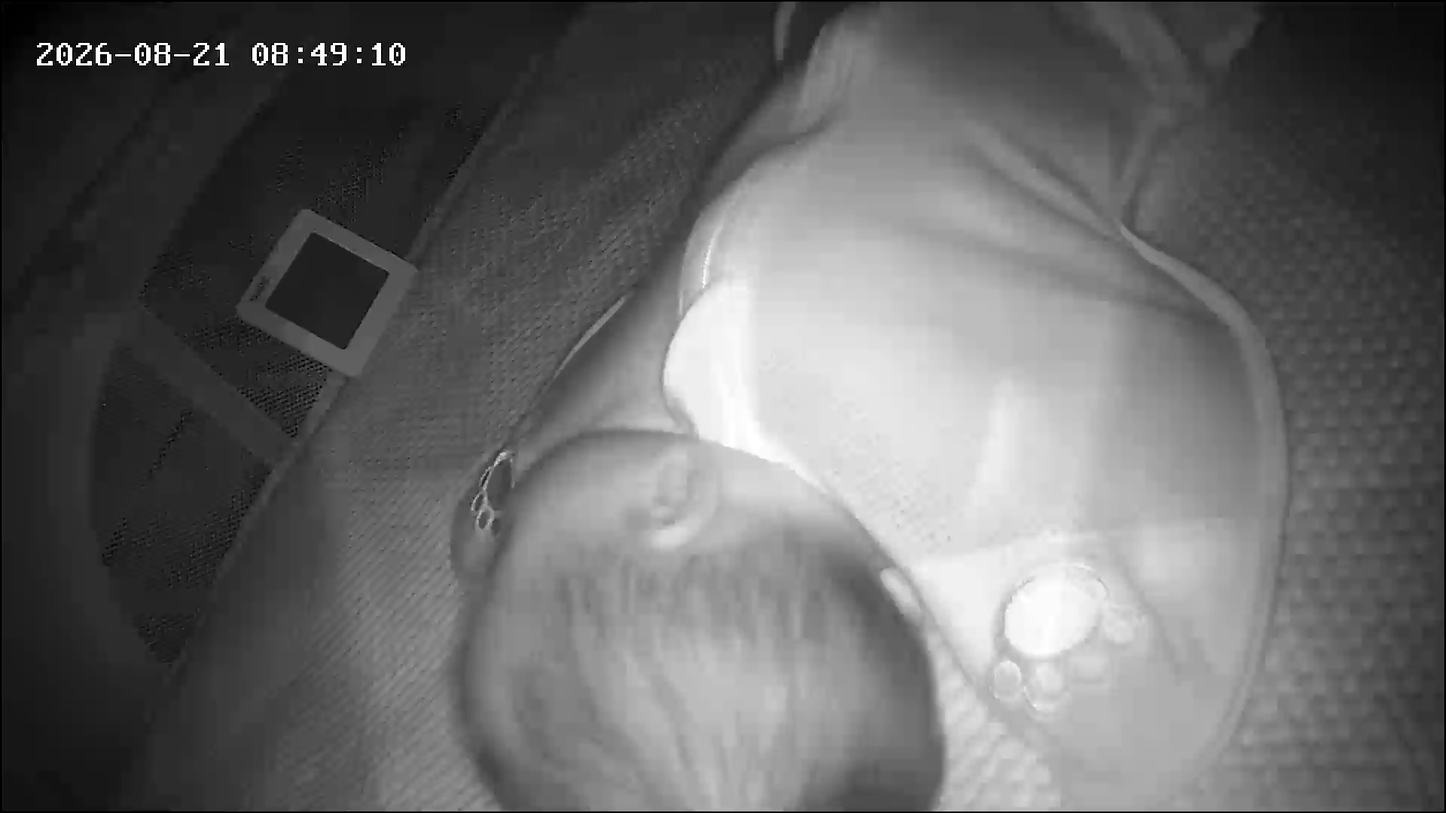baby: (442, 0, 1332, 810)
baby_face: (444, 393, 951, 810)
